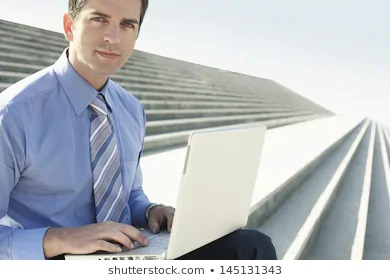F_shirt: (1, 48, 157, 261)
F_tie: (85, 94, 129, 230)
